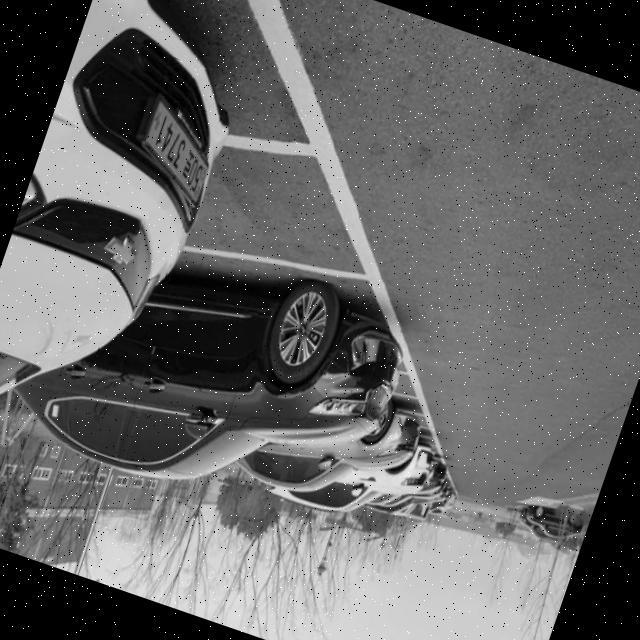Car: (0, 0, 260, 484), (39, 197, 362, 548), (236, 360, 416, 524), (296, 414, 424, 556), (498, 481, 588, 565), (370, 459, 437, 548)
Free: (198, 110, 404, 278)
